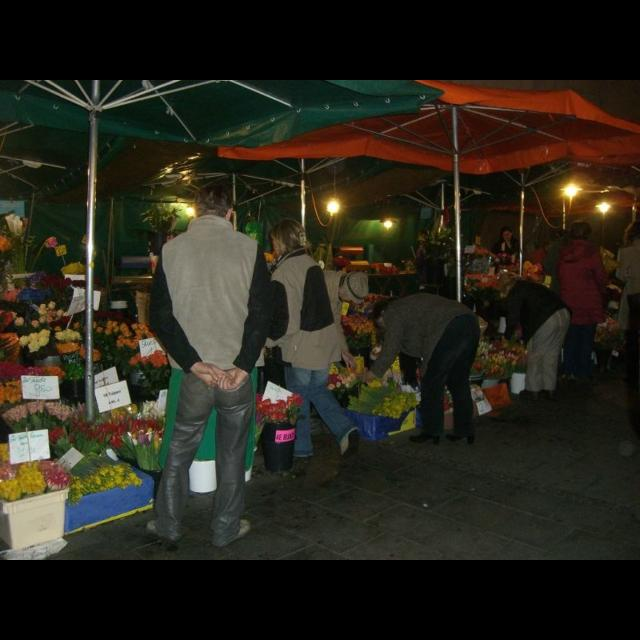Flower: (130, 476, 144, 488)
